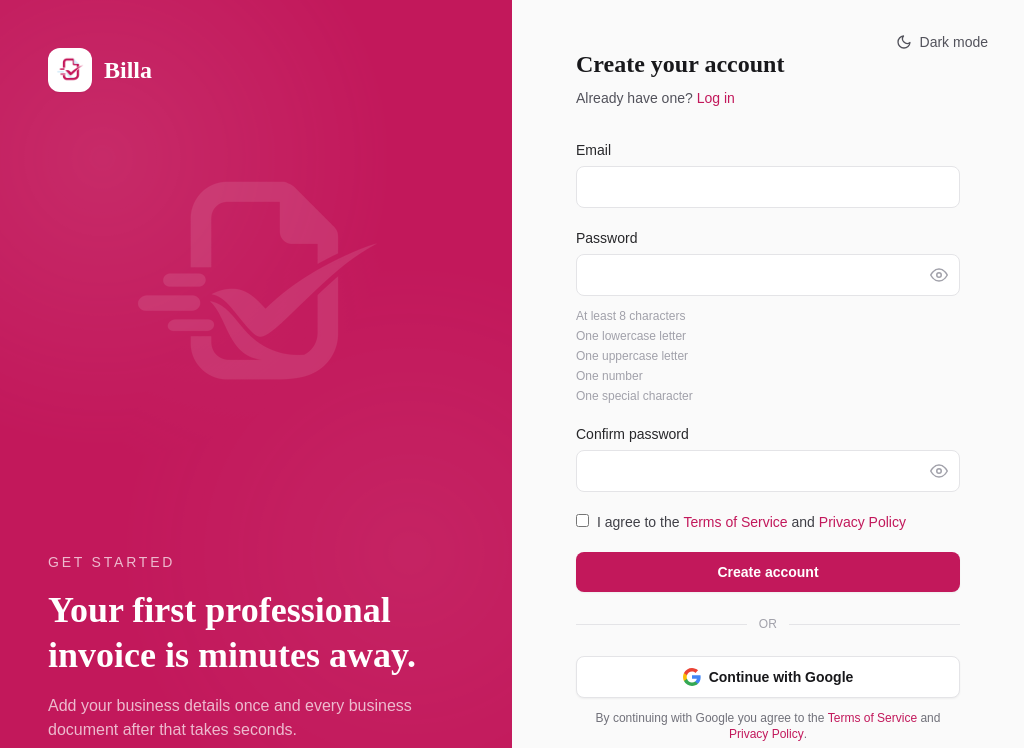
Test: Register › shows an error when the confirm password field doesn't match
This screenshot has width=1024, height=748.
Type "owner@example.com" into the field labelled "Email" at (768, 187), box left=576, top=166, right=960, bottom=208
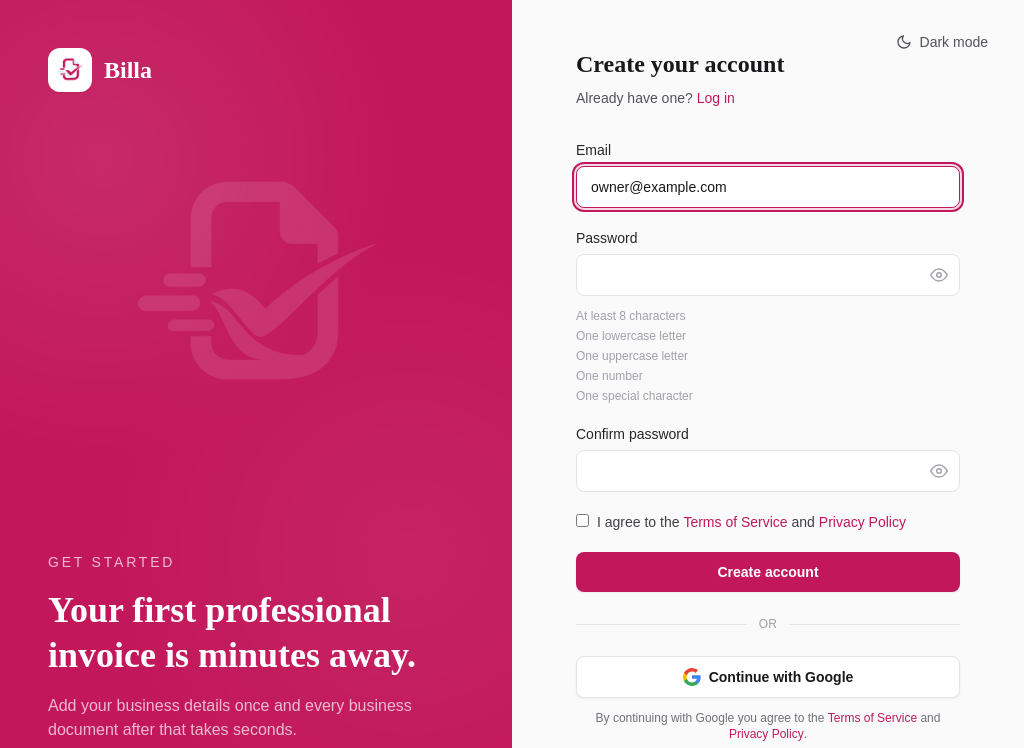
Type "Supersecret1!" into the password field labelled "Password" at (768, 275), box left=576, top=254, right=960, bottom=296
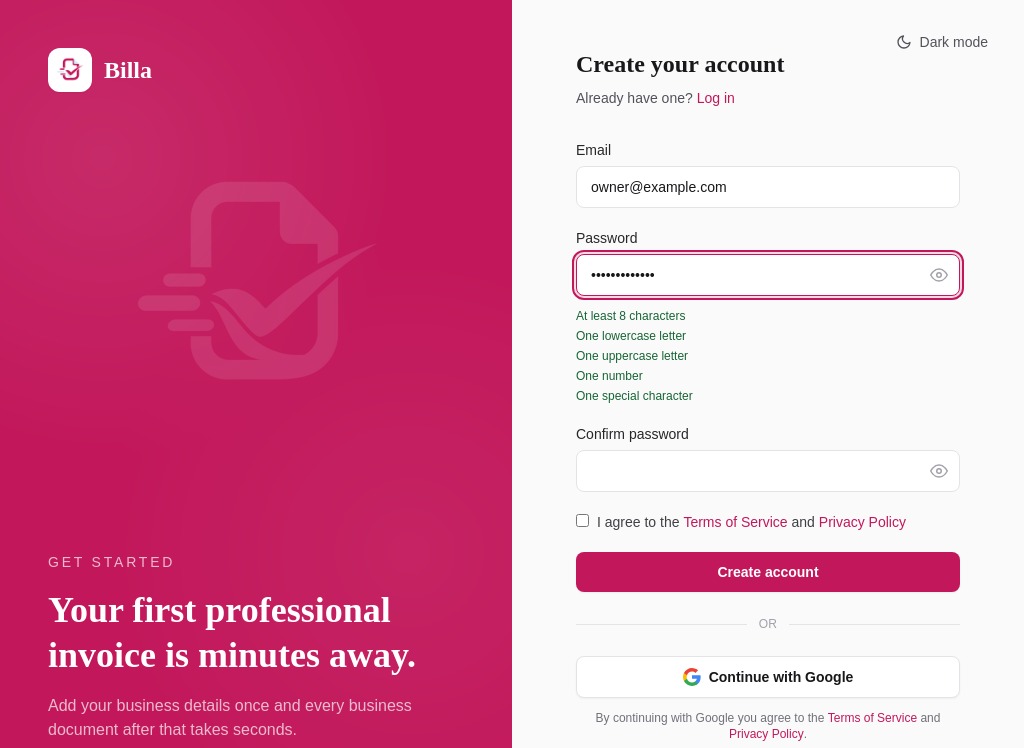
Type "Different1!" into the password field labelled "Confirm password" at (768, 471), box left=576, top=450, right=960, bottom=492
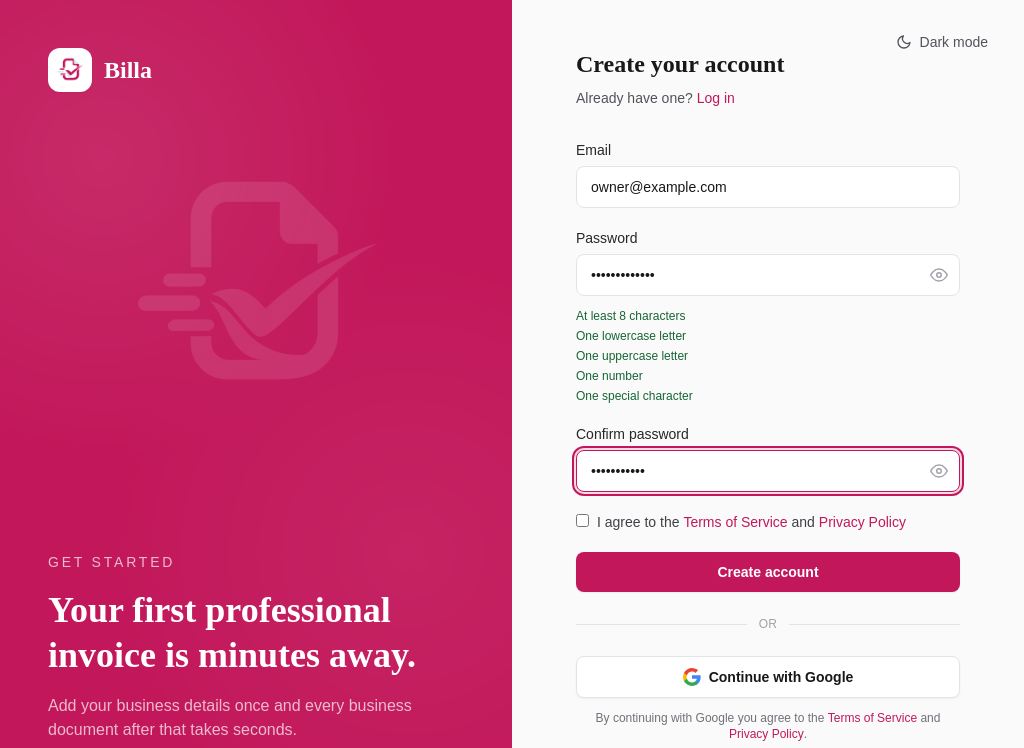
Click the button "Create account" at (768, 572), box left=576, top=552, right=960, bottom=592
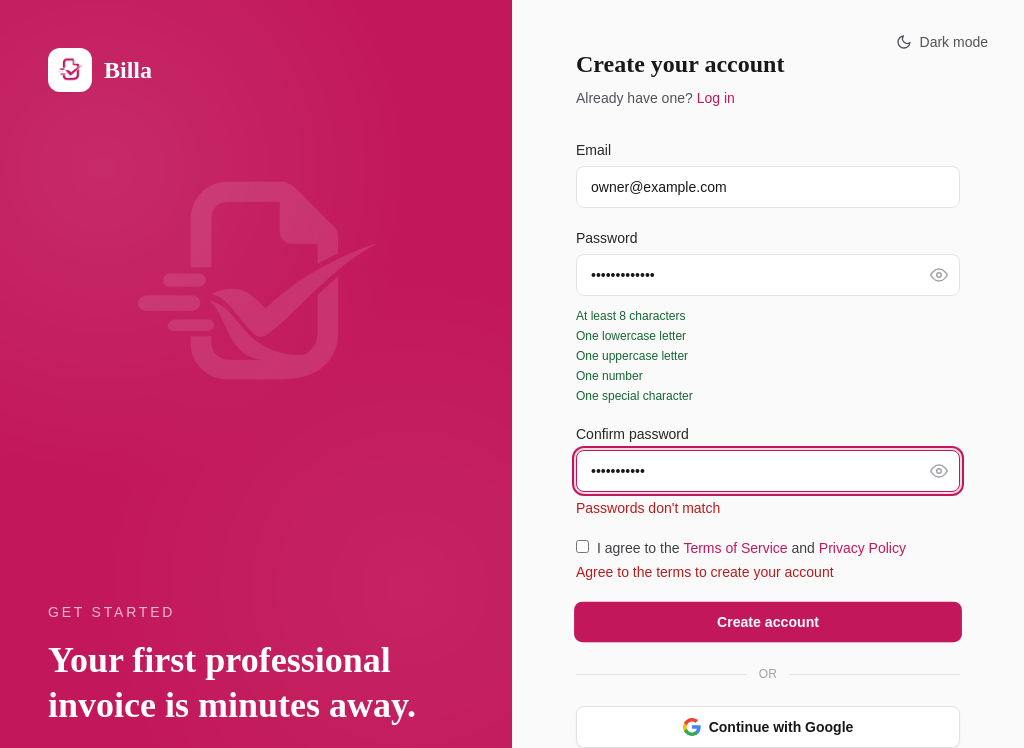
Expected: the text "Passwords don't match" is shown, left=576, top=500, right=720, bottom=516
